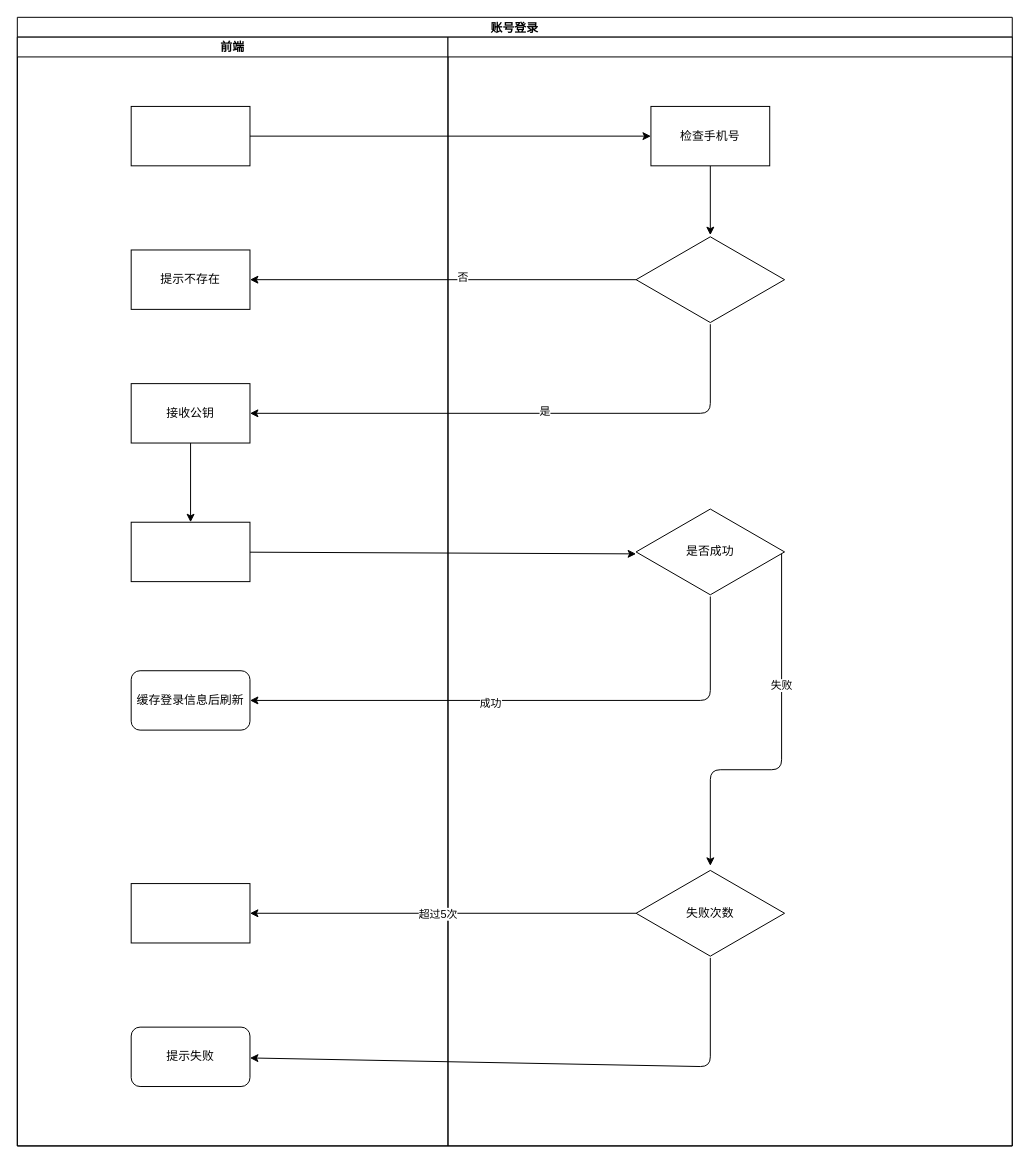
This 1030x1163 diagram has some shape labels left out. Here are the shapes that lost their labels. From the top down, the box of each, then its label:
(130, 105, 250, 166): 账号+密码
(635, 234, 785, 324): 是否存在
(130, 521, 250, 582): 明文密码加密
(447, 36, 1012, 1146): 后端
(130, 883, 250, 943): 初始化易盾
